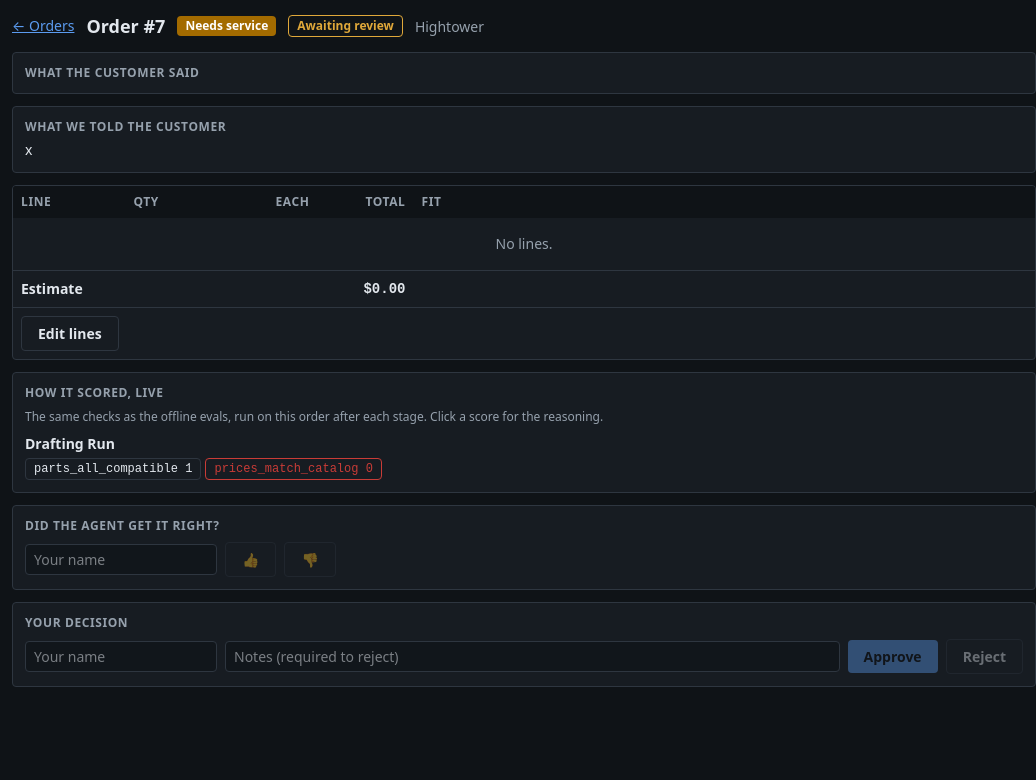
Test: Live scores on an order › lists each run's scores, marks a failing one, and shows the reasoning on click
Expected: the heading "How it scored, live" is shown, [25,384,164,401]
Click the button labelled "prices_match_catalog 0": coordinates (294, 469) [205,458,382,480]
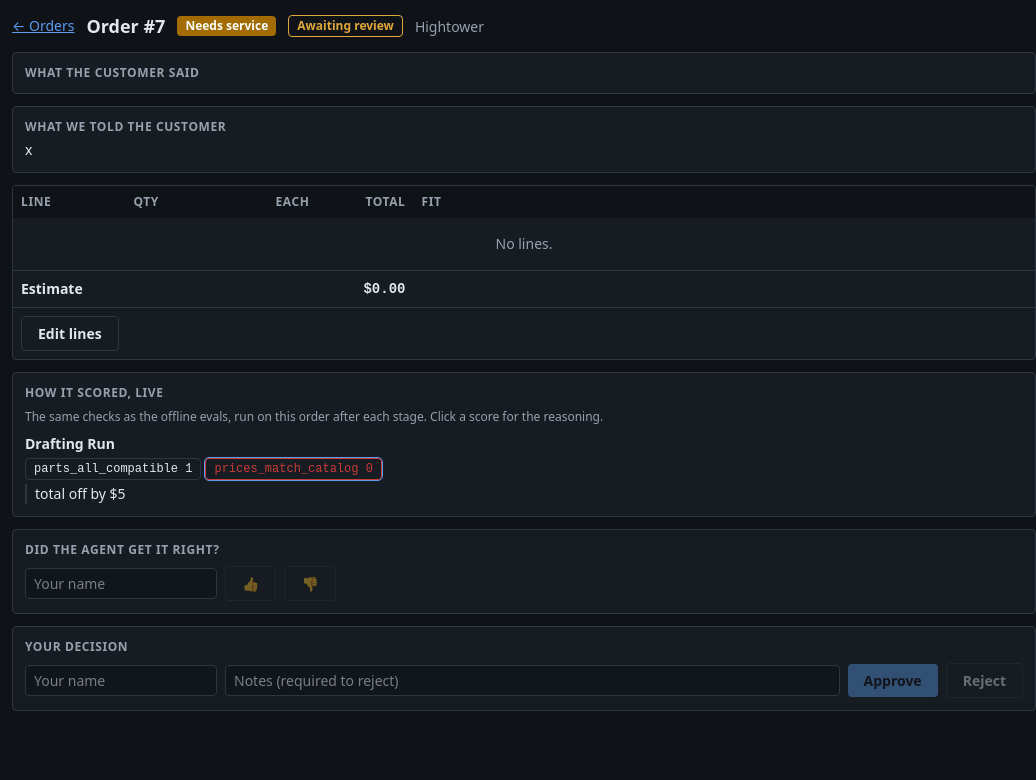
Expected: the text "total off by $5" is shown, [25,484,1023,504]
